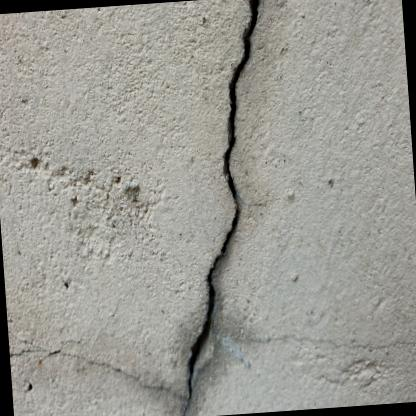crack: (184, 0, 260, 416)
